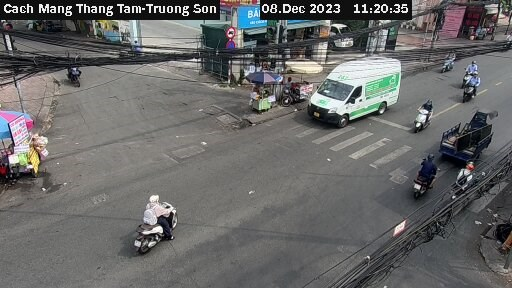car: (301, 56, 408, 123)
motorbike: (130, 197, 189, 256), (402, 153, 443, 206), (451, 157, 482, 210), (409, 103, 439, 137), (461, 76, 488, 112), (63, 64, 94, 91), (437, 45, 461, 72), (461, 59, 482, 85)
